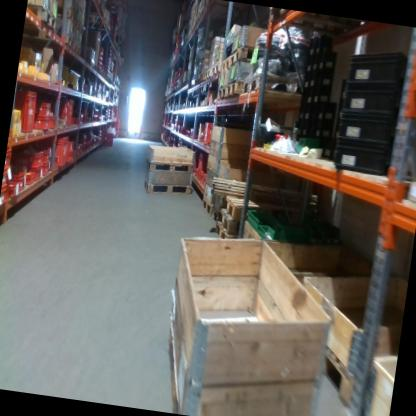pallet: (319, 348, 362, 411), (240, 69, 299, 96), (141, 175, 189, 200), (143, 156, 194, 175), (25, 6, 58, 34), (229, 43, 263, 67), (217, 208, 241, 235), (52, 9, 79, 31), (222, 195, 244, 218), (224, 78, 246, 100), (54, 38, 75, 53), (214, 223, 232, 239), (197, 196, 211, 214), (211, 58, 222, 79), (221, 53, 232, 72), (216, 83, 227, 101), (207, 209, 219, 224), (75, 22, 86, 33), (73, 40, 82, 53), (204, 65, 211, 81)
small_load_carrier: (345, 43, 412, 92), (328, 136, 394, 177), (331, 106, 400, 145), (341, 84, 403, 115), (10, 89, 41, 136), (52, 130, 68, 170), (21, 145, 45, 169), (8, 169, 26, 196), (20, 166, 35, 192), (35, 158, 50, 184), (195, 151, 208, 181), (36, 142, 51, 167), (34, 99, 52, 119), (64, 96, 76, 126), (60, 149, 74, 170), (32, 117, 49, 134), (1, 168, 12, 192), (0, 183, 10, 209), (5, 144, 14, 172), (6, 180, 20, 197), (206, 122, 214, 149), (103, 131, 115, 148), (47, 112, 57, 132), (55, 116, 66, 129), (65, 139, 75, 153), (58, 98, 70, 108), (202, 122, 211, 135), (198, 170, 205, 185), (58, 106, 67, 117), (75, 113, 82, 125), (78, 135, 86, 144), (202, 174, 208, 186), (202, 134, 209, 144), (80, 144, 87, 152), (198, 136, 203, 144)
